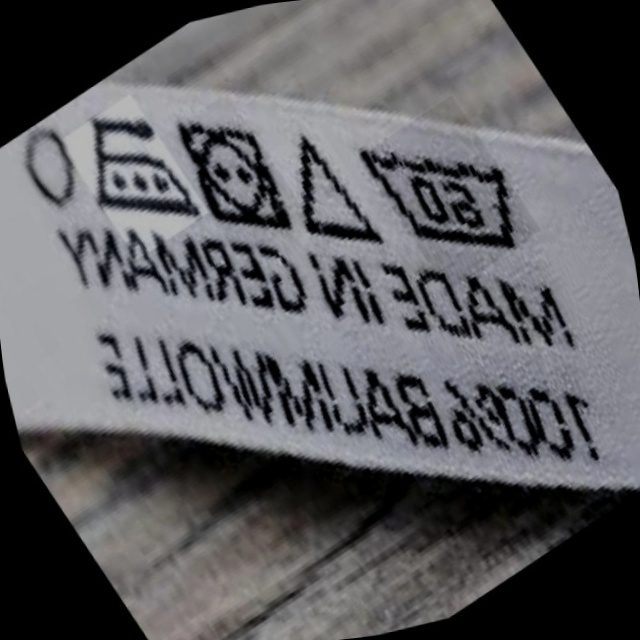60C: (352, 107, 538, 275)
bleach: (278, 118, 379, 263)
iron_high: (71, 92, 199, 242)
tumble_dry_medium: (174, 97, 292, 247)
